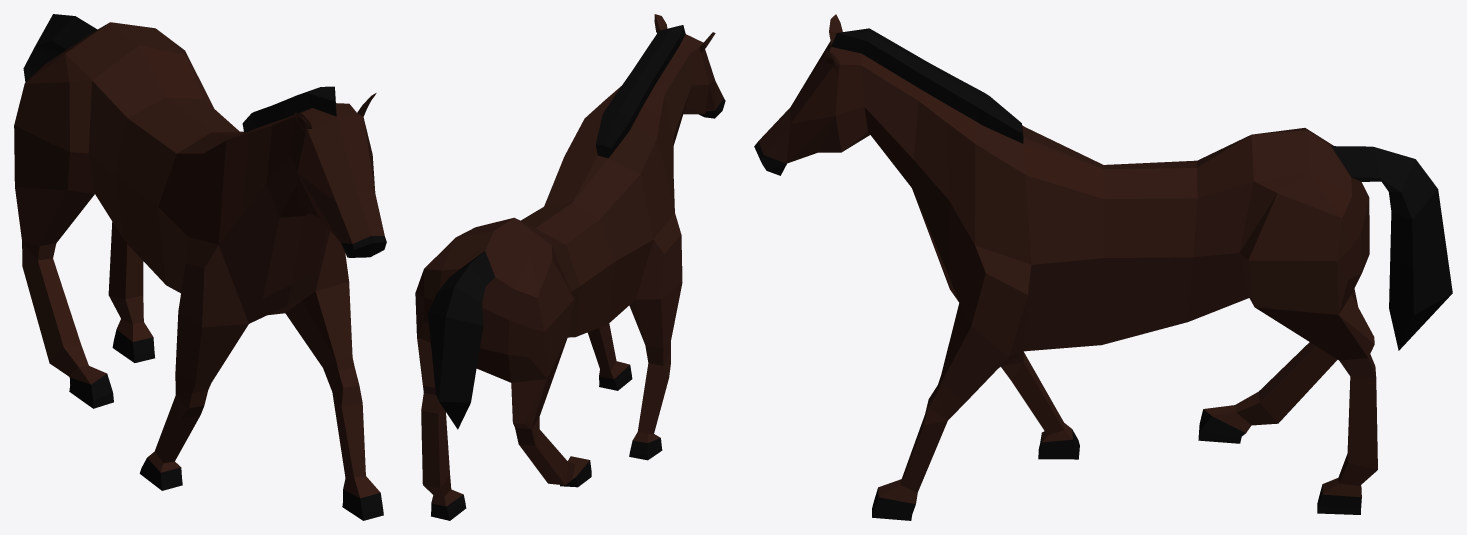
The model's file is Horse_000032.obj.
The picture shows the model from 3 angles, left to right: view 1: azimuth 30°, elevation 25°; view 2: azimuth 150°, elevation 25°; view 3: azimuth 270°, elevation 25°; orthographic projection. The views are drawn at different scales.
Visible parts, largest first — view 1: Horse_Cylinder; view 2: Horse_Cylinder; view 3: Horse_Cylinder.
Boxes of the visible parts, box(x1,y1,x2,y2) form: Horse_Cylinder: box(14, 14, 386, 520); Horse_Cylinder: box(415, 14, 725, 520); Horse_Cylinder: box(754, 14, 1452, 520).
Size of the model in its own units: 2.58 by 6.65 by 9.23.
